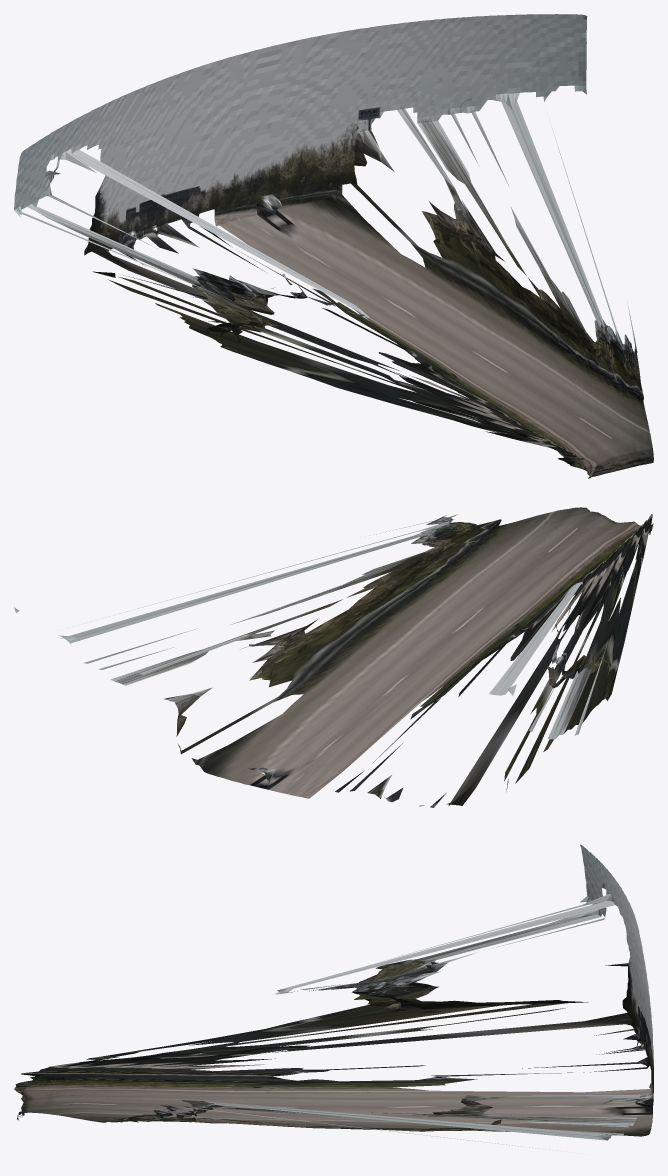
3 views of the same model, one above another, from view 1: azimuth 30°, elevation 25°; view 2: azimuth 150°, elevation 25°; view 3: azimuth 270°, elevation 25° (orthographic). The views are drawn at different scales.
Visible parts, largest first — view 1: defaultobject; view 2: defaultobject; view 3: defaultobject.
Boxes of the visible parts, x1,y1,x2,y2 form: defaultobject: (14, 14, 653, 478); defaultobject: (14, 507, 653, 807); defaultobject: (14, 844, 653, 1152).
Bounding box in the file's own units: 40.95 × 11.86 × 44.62.
1 material, 1 textured.
